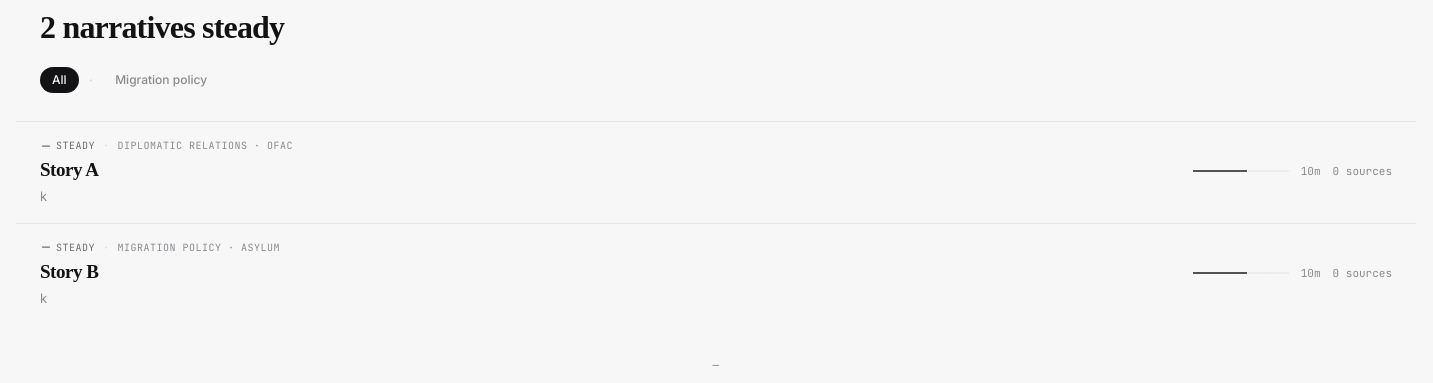
Phase 1.2: settings-backed pills › 'All' pill is always present and clears filters even with a constrained settings vocabulary
The image size is (1433, 383).
Expected: the heading "Story A" is shown, [40,159,98,180]
Expected: the button with test id "pill-all" is shown, [40,67,79,93]
Click the button "Migration policy": click(161, 80) [103,67,219,93]
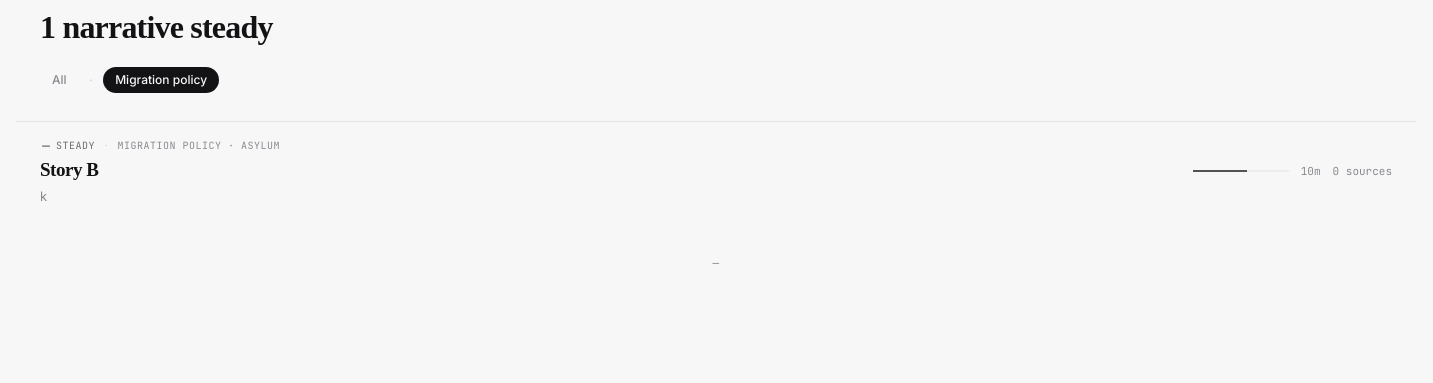
Expected: the heading "Story B" is shown, [40,159,98,180]
Expected: the button "Story A" is gone
Click the button with test id "pill-all": click(59, 80) [40,67,79,93]
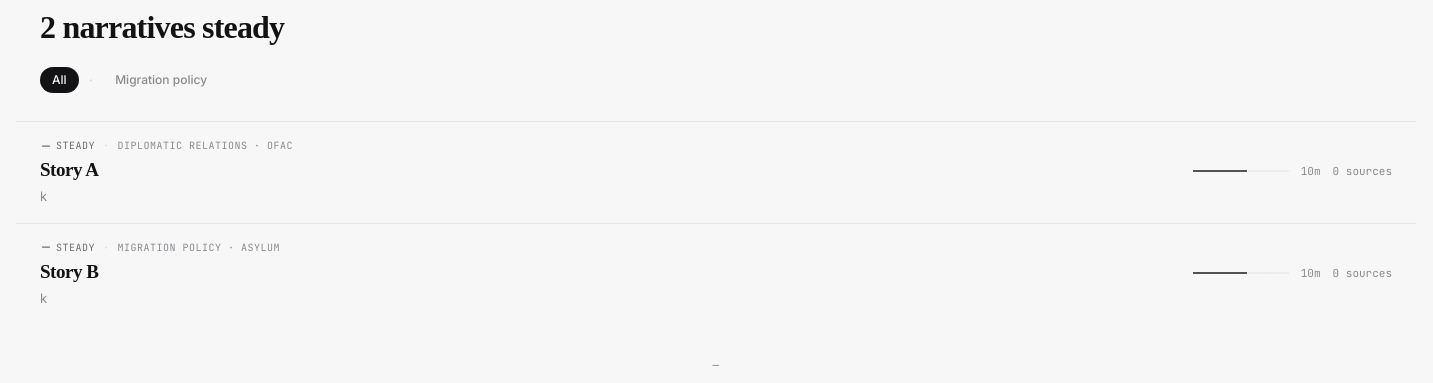
Expected: the heading "Story B" is shown, [40,261,98,282]
Expected: the heading "Story A" is shown, [40,159,98,180]
